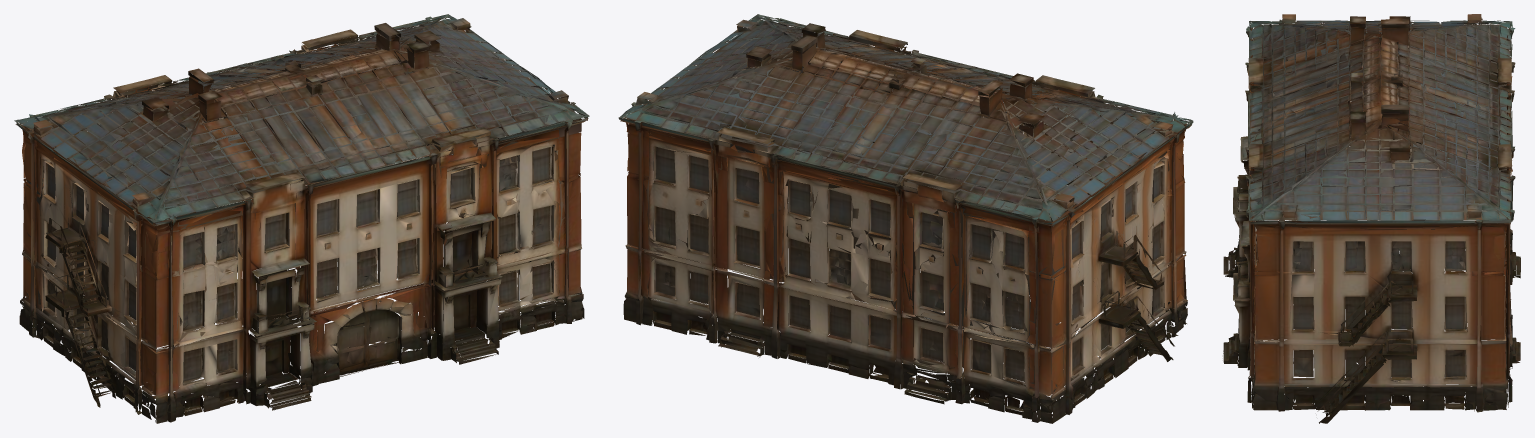
The model's file is ch03_perimeter_workers_hall.glb.
The picture shows the model from 3 angles, left to right: view 1: azimuth 30°, elevation 25°; view 2: azimuth 150°, elevation 25°; view 3: azimuth 270°, elevation 25°; orthographic projection. The views are drawn at different scales.
Parts seen in each view (by area): view 1: material; view 2: material; view 3: material.
Part boxes in pixels (box(x1,y1,x2,y2)): material: box(14, 14, 589, 423); material: box(618, 14, 1193, 423); material: box(1223, 14, 1520, 423).
Bounding box in the file's own units: 1.03 × 0.5572 × 0.598.
Materials: 1 (1 with a texture image).
